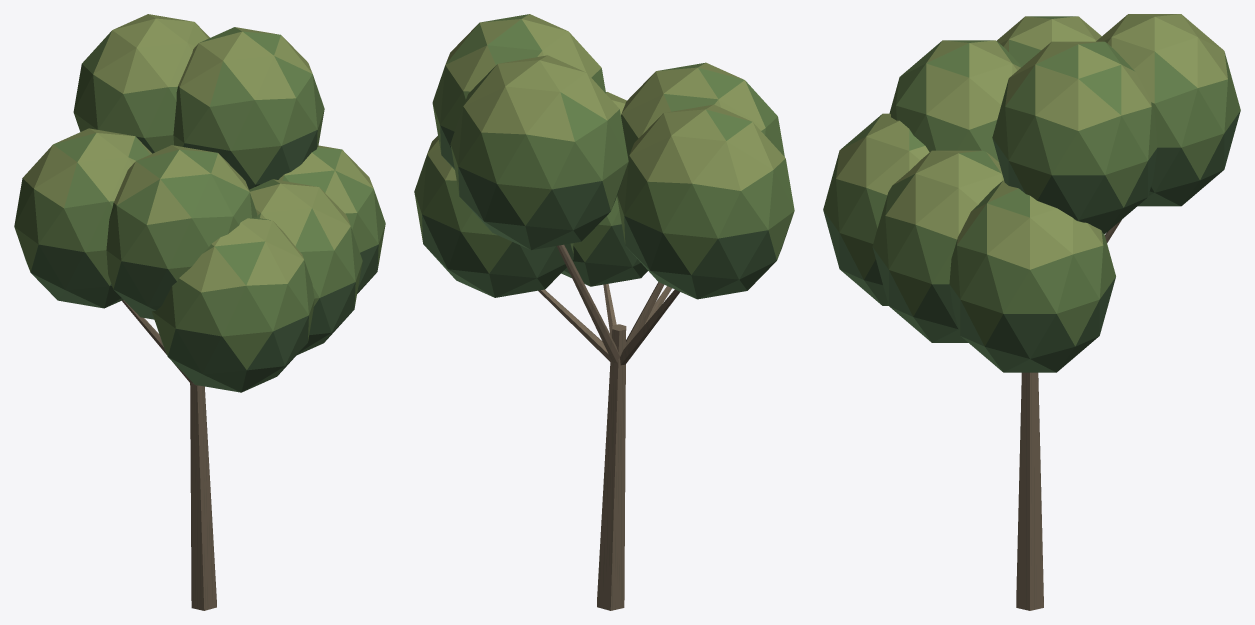
Rendered from SM_QD_Veg_Locust.fbx.
The picture shows the model from 3 angles, left to right: view 1: azimuth 30°, elevation 25°; view 2: azimuth 150°, elevation 25°; view 3: azimuth 270°, elevation 25°; orthographic projection. The views are drawn at different scales.
Parts seen in each view (by area): view 1: SM_QD_Veg_Locust; view 2: SM_QD_Veg_Locust; view 3: SM_QD_Veg_Locust.
Boxes of the visible parts, bbox=[...] form: SM_QD_Veg_Locust: bbox=[14, 14, 385, 610]; SM_QD_Veg_Locust: bbox=[414, 14, 794, 610]; SM_QD_Veg_Locust: bbox=[823, 14, 1240, 610].
Size of the model in its own units: 4.25 by 4.17 by 6.54.
1 material, 1 textured.
